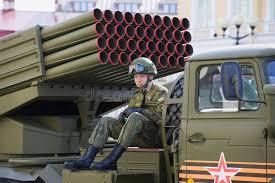MIL_SAM_TEL: (2, 7, 275, 183)
